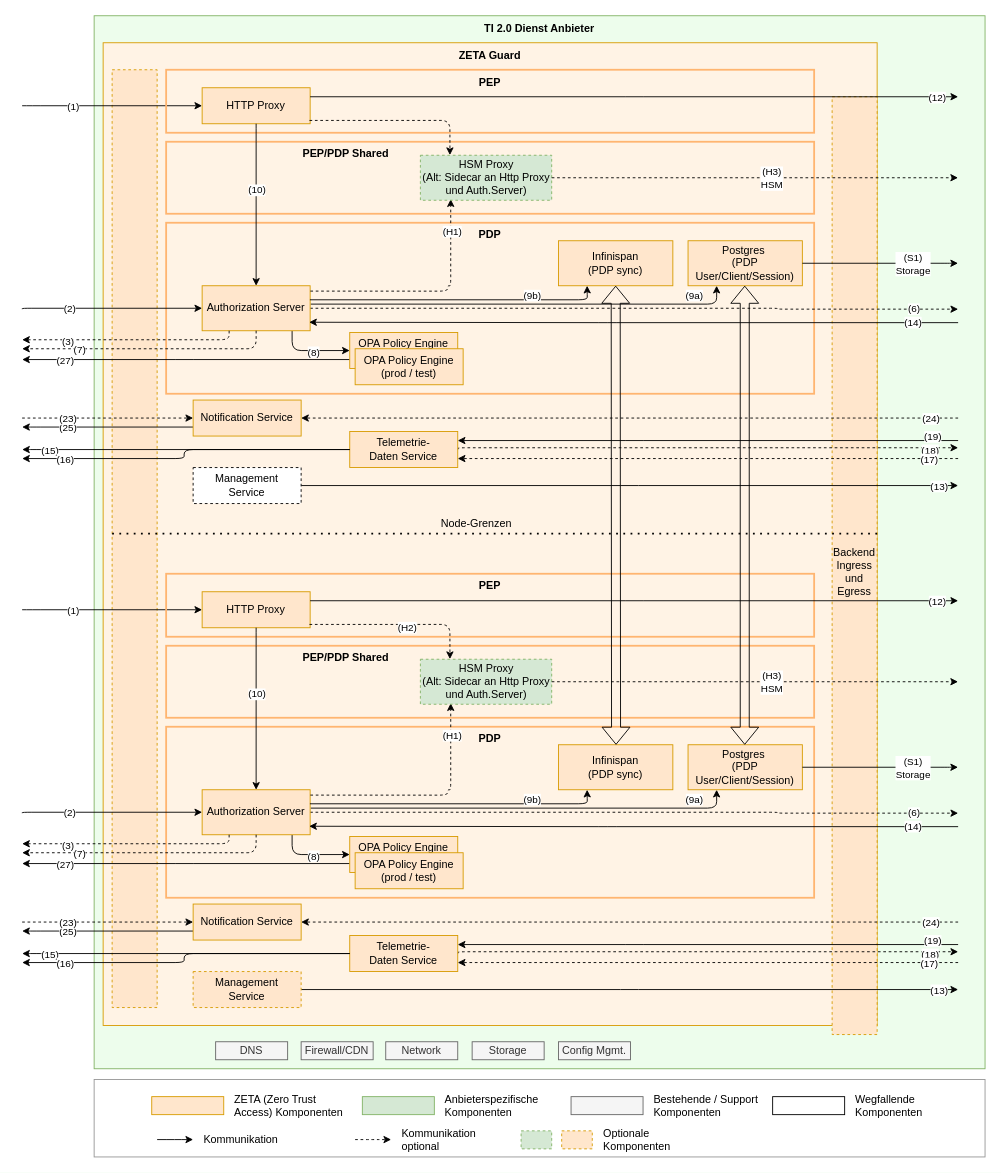
This 1001x1173 diagram has some shape labels left out. Each missing label, with the box of its shape:
Ingress und Egress: (111, 69, 157, 1008)
Legende: (93, 1079, 985, 1157)
